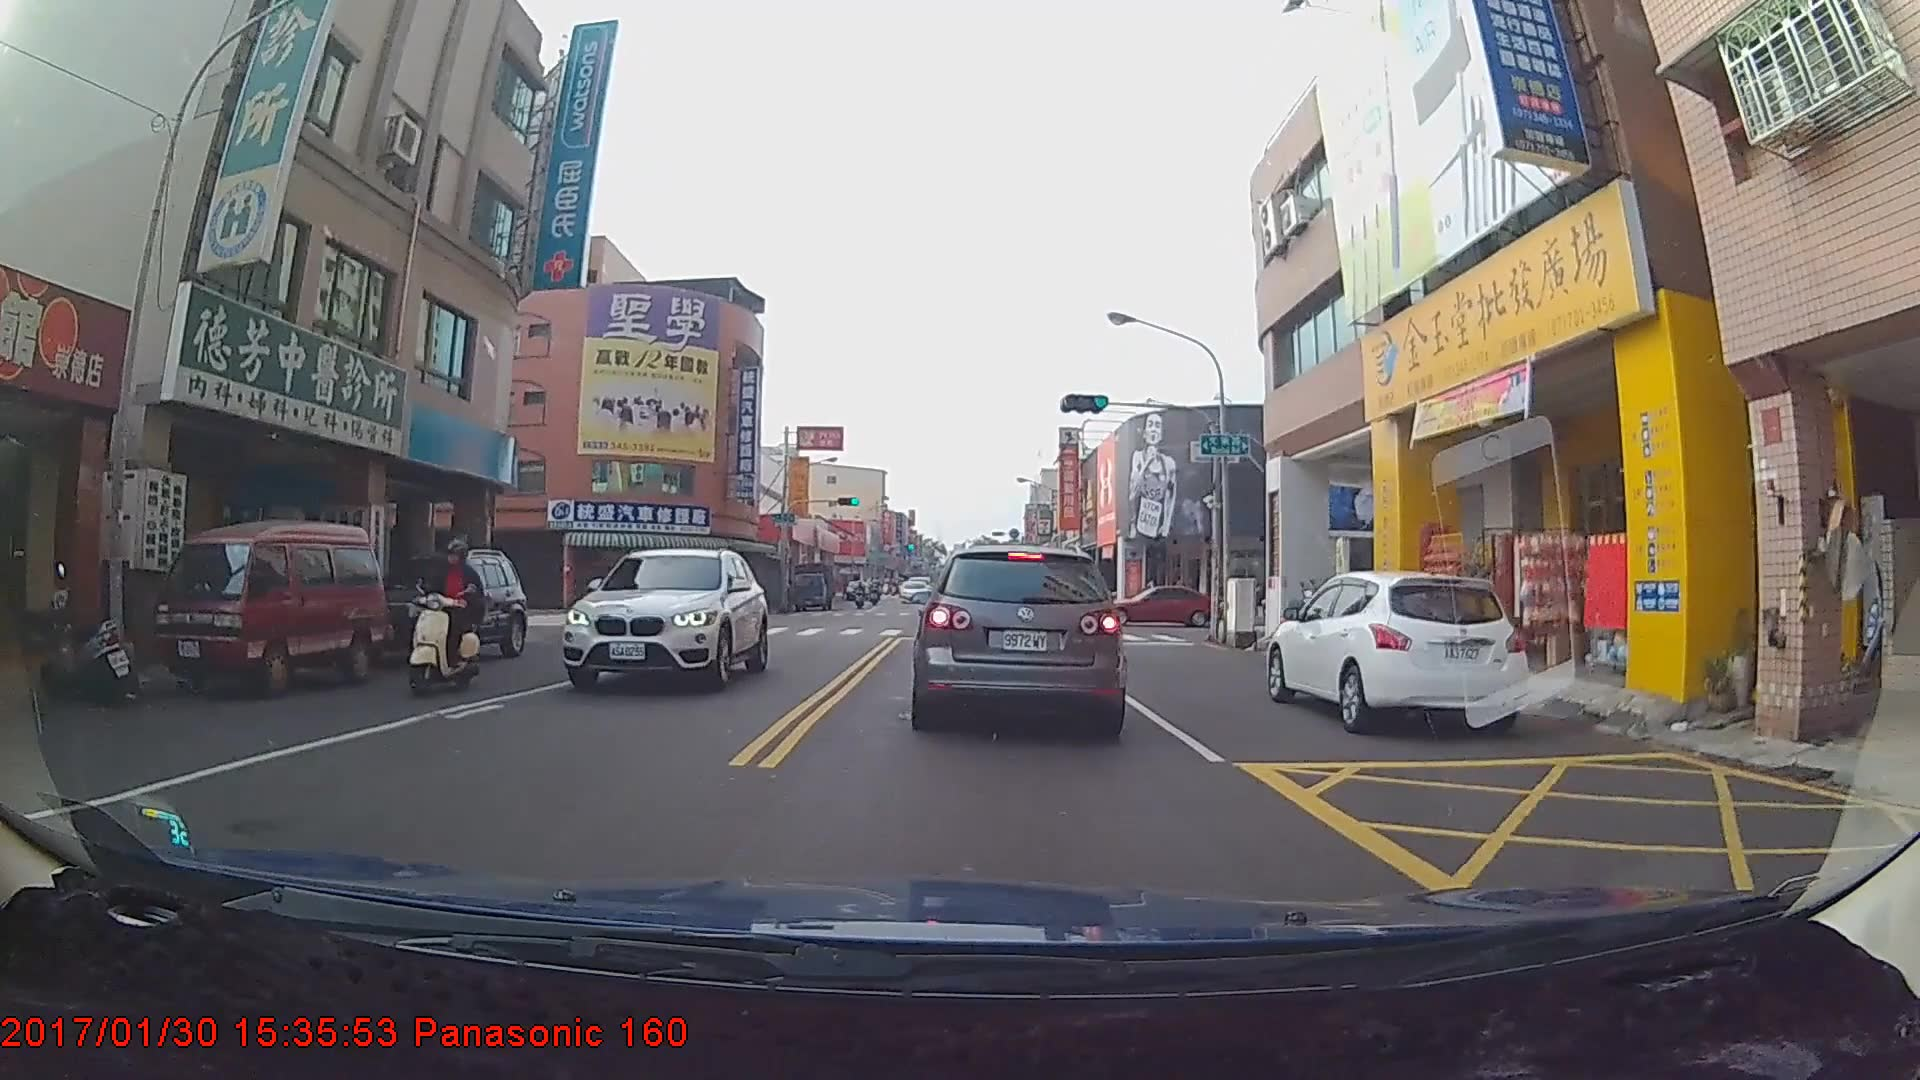rider: (404, 540, 485, 704), (850, 576, 870, 611), (847, 576, 867, 605)
vehicle: (1265, 569, 1527, 737), (912, 542, 1123, 736), (156, 521, 387, 693), (557, 548, 770, 691), (348, 550, 526, 671), (1101, 581, 1214, 625), (784, 559, 836, 609), (898, 579, 928, 603)
